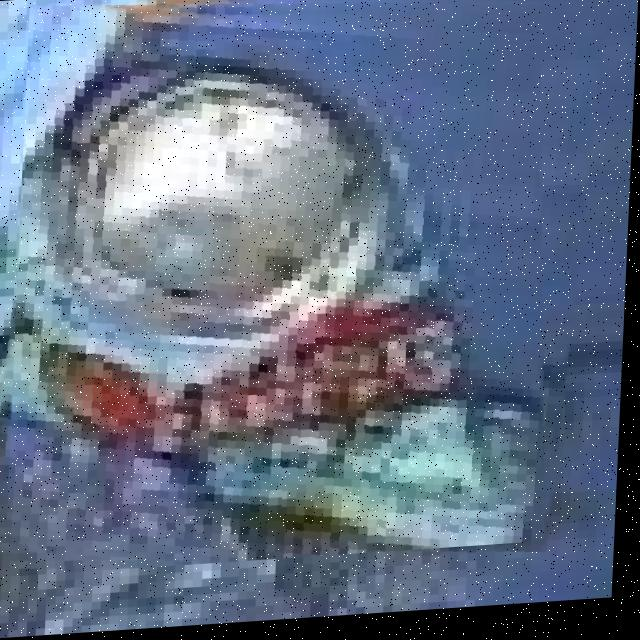can: (21, 4, 546, 564)
